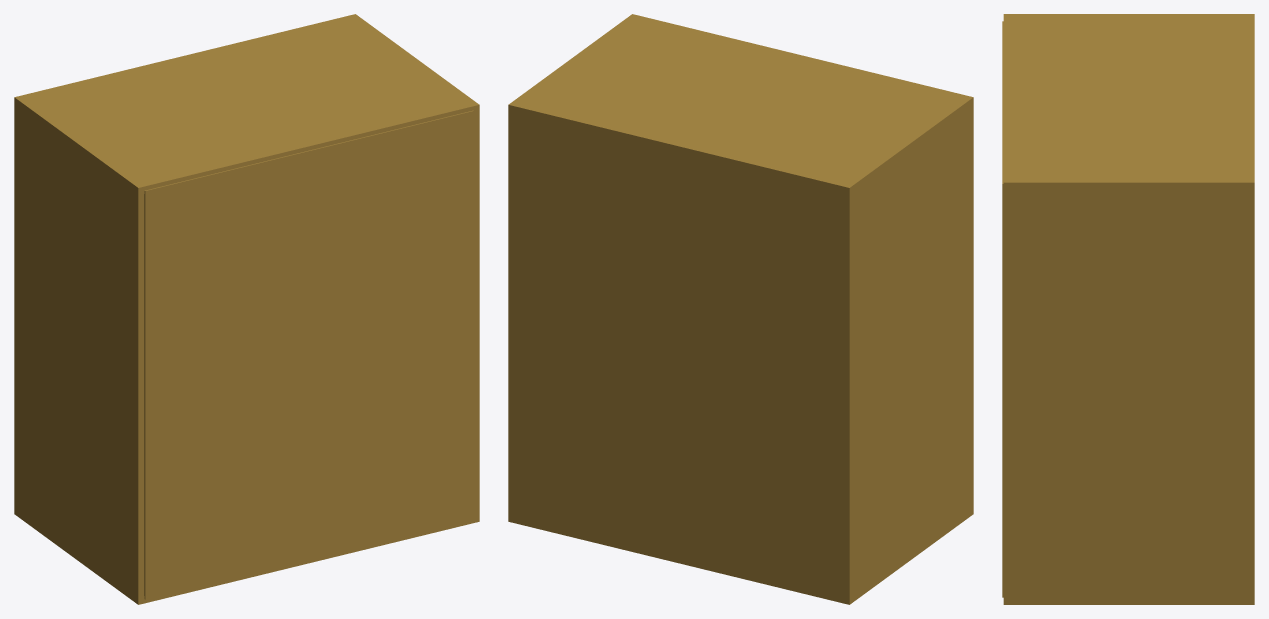
The model's file is Lemari.fbx.
3 views of the same model, side by side, from view 1: azimuth 30°, elevation 25°; view 2: azimuth 150°, elevation 25°; view 3: azimuth 270°, elevation 25° (orthographic).
Parts seen in each view (by area): view 1: Cube.011, Cube.013, Cube.012; view 2: Cube.011; view 3: Cube.011, Cube.012.
Part boxes in pixels (bbox=[...]): Cube.011: bbox=[14, 14, 479, 604]; Cube.013: bbox=[144, 150, 309, 599]; Cube.012: bbox=[309, 110, 473, 559]; Cube.011: bbox=[508, 14, 973, 604]; Cube.011: bbox=[1003, 14, 1254, 604]; Cube.012: bbox=[1002, 102, 1003, 597].
Bounding box in the file's own units: 171 × 200 × 108.
